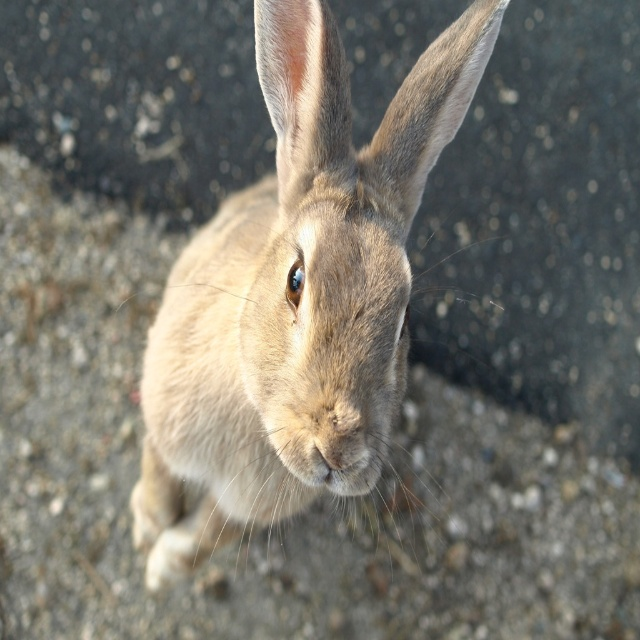Rabbit: (127, 0, 511, 598)
